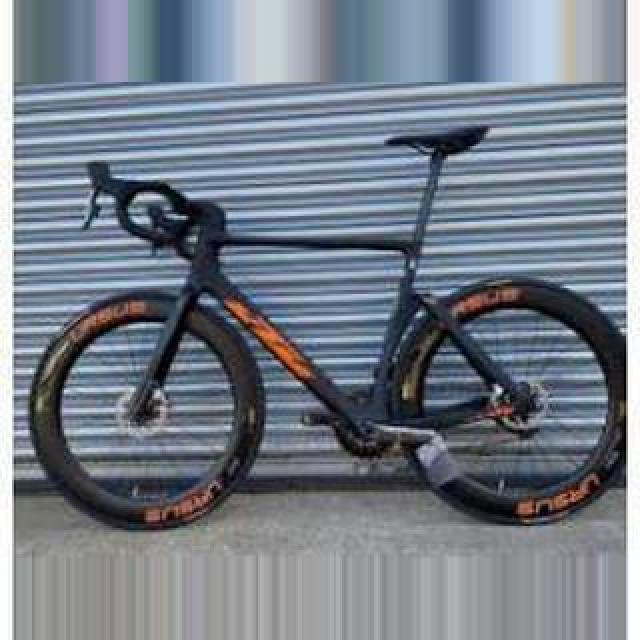Person: (28, 122, 626, 536)
